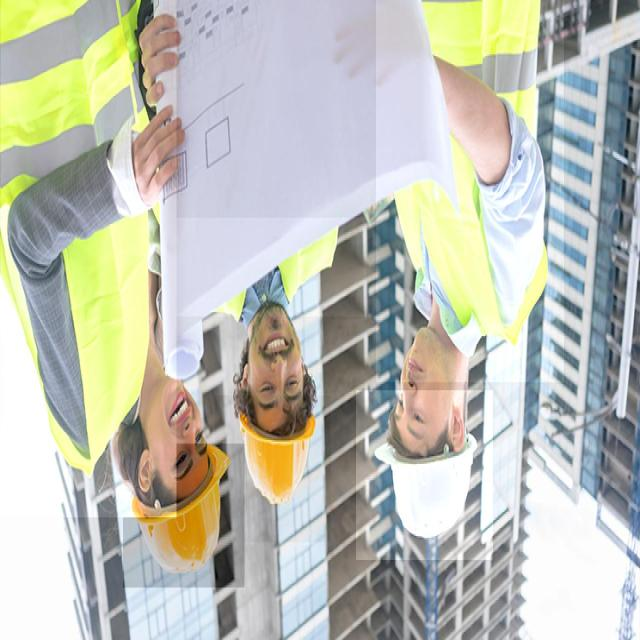Helmet: (356, 390, 493, 560), (123, 443, 245, 588), (215, 396, 331, 542)
Safety Vest: (0, 0, 176, 517), (376, 0, 564, 382), (149, 218, 367, 316)
